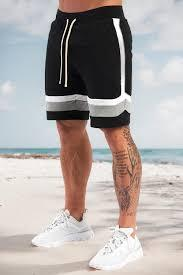short: (36, 5, 144, 131)
